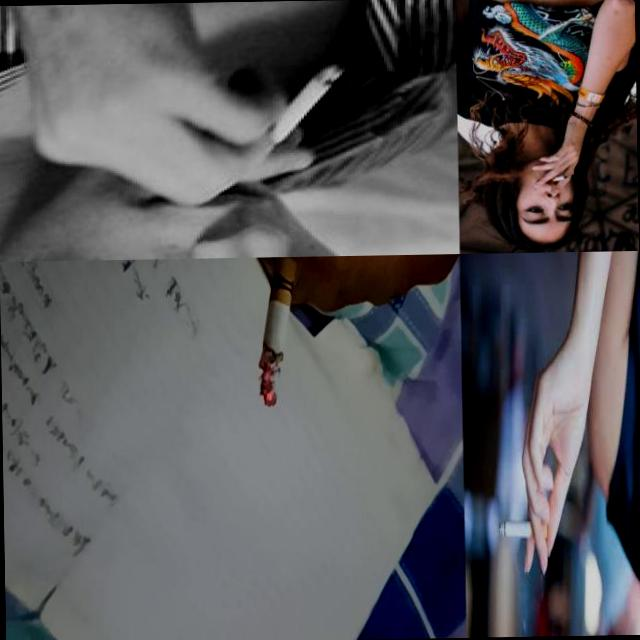smoke: (253, 65, 346, 164), (256, 257, 310, 409), (498, 520, 546, 538), (550, 174, 568, 182)
